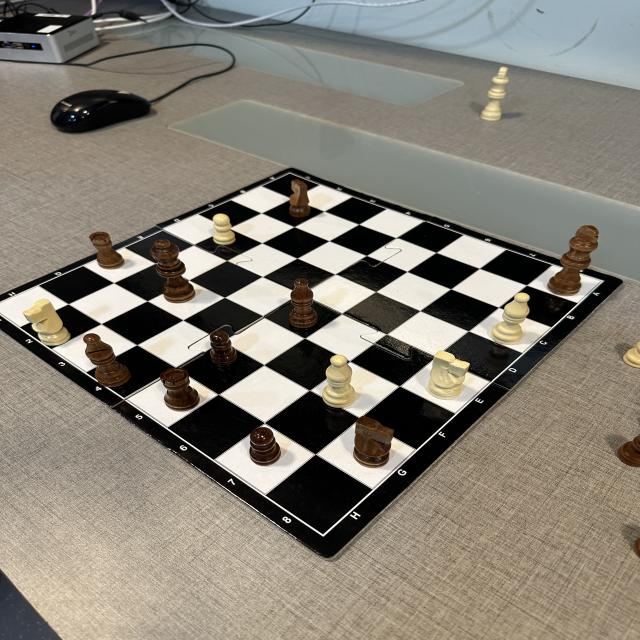Black-Bishop: (84, 333, 130, 387), (290, 279, 318, 328)
Black-King: (547, 225, 599, 296)
Black-Knight: (354, 416, 394, 468), (290, 180, 312, 218)
Black-Pawn: (250, 427, 282, 466), (210, 330, 237, 365)
Black-Queen: (150, 239, 196, 303)
Black-Rook: (161, 368, 200, 411), (90, 231, 126, 269)
White-Bishop: (492, 293, 530, 345), (322, 355, 356, 408)
White-King: (481, 67, 509, 121)
White-Knight: (23, 298, 71, 346), (428, 350, 470, 400)
White-Pawn: (214, 214, 235, 245)
